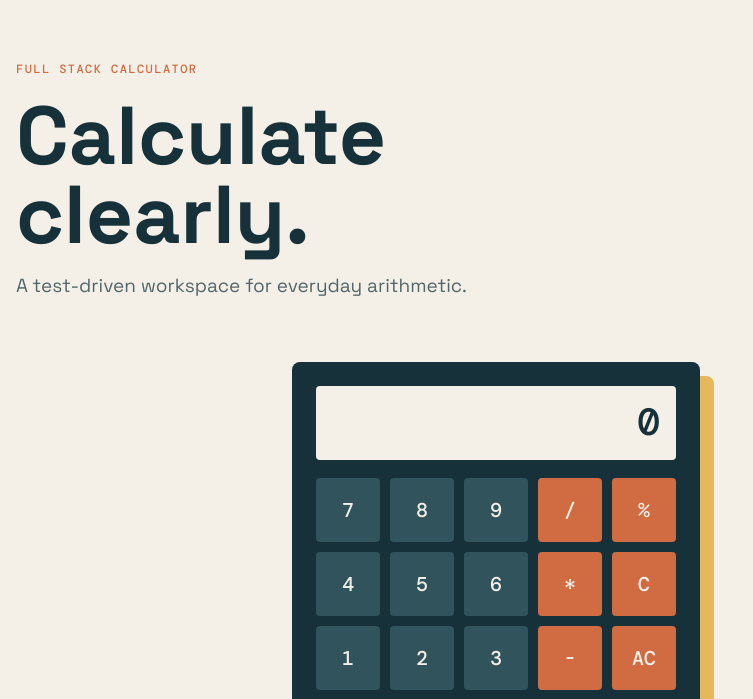
Test: Calculator shell › sends the display expression to the API and shows the result
What coordinates should you click on to do the following:
click the button "2"
I would click on:
 (422, 658)
Its box is [390,626,454,690].
(page scrolled)
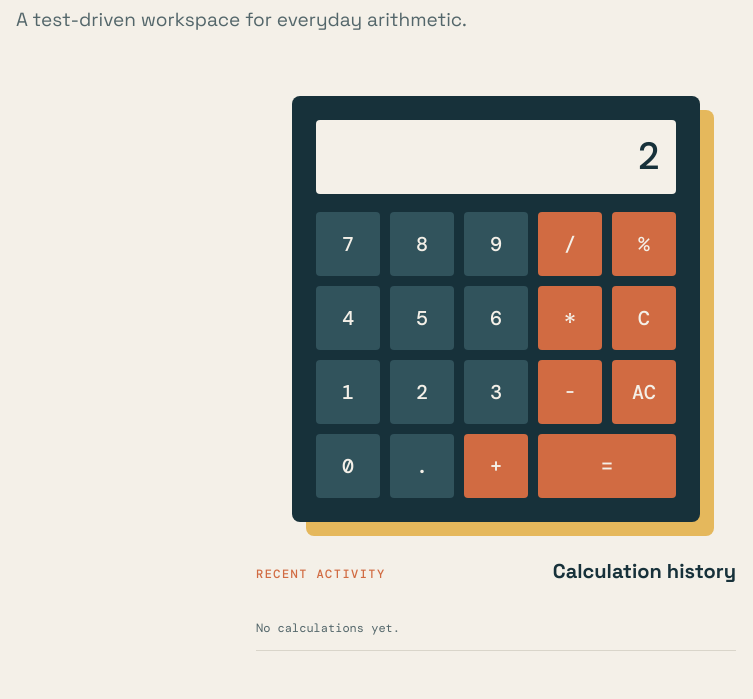
What coordinates should you click on to do the following:
click the button "+"
I would click on:
 (496, 466)
Its box is [464,434,528,498].
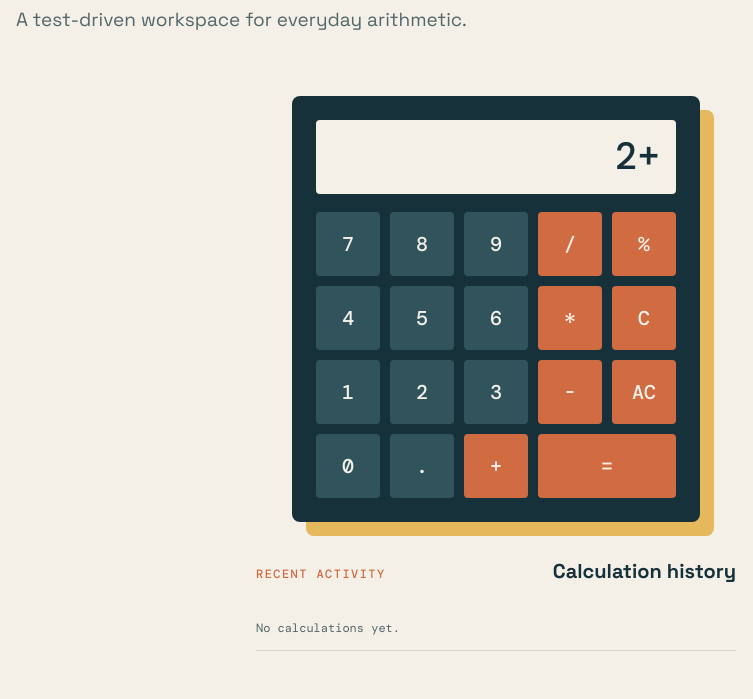
What coordinates should you click on to do the following:
click the button "3"
I would click on:
 (496, 392)
Its box is [464,360,528,424].
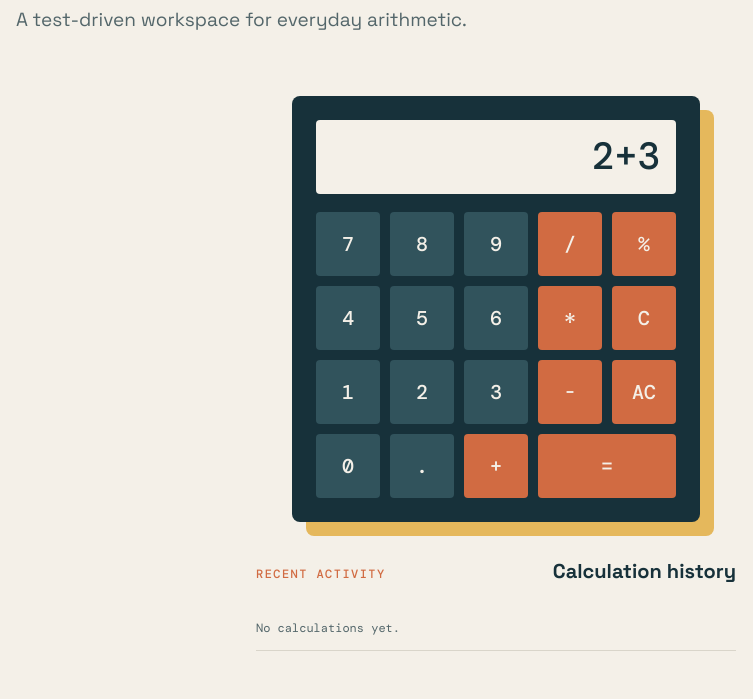
What coordinates should you click on to do the following:
click the button "="
I would click on:
 (607, 466)
Its box is [538,434,676,498].
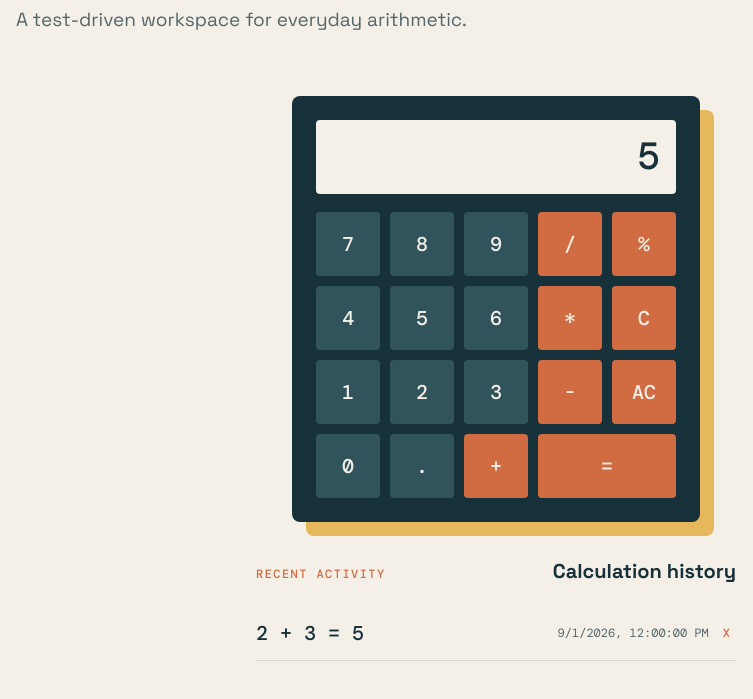
Expected: the text named "Current value" reads "5", [637,131,660,181]
Expected: the list item is shown, [256,606,736,661]
